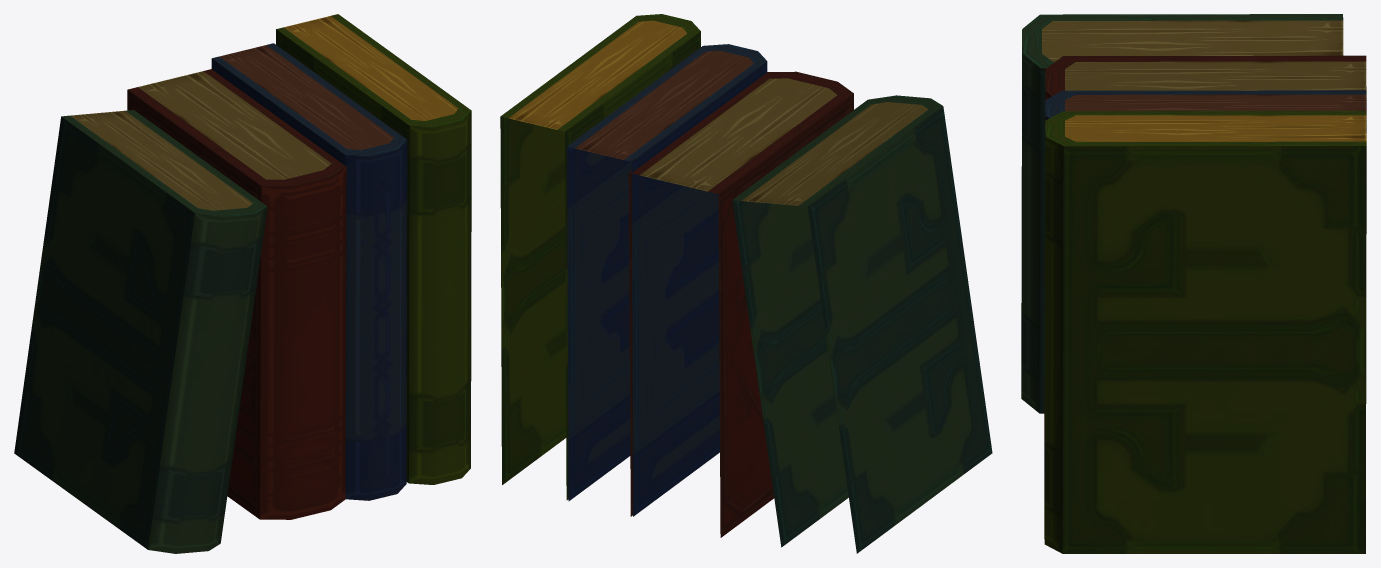
Rendered from BookGroup_Small_1.gltf.
3 renders of one model, left to right at view 1: azimuth 30°, elevation 25°; view 2: azimuth 150°, elevation 25°; view 3: azimuth 270°, elevation 25°, orthographic. The views are drawn at different scales.
Visible parts, largest first — view 1: BookGroup_Small_1; view 2: BookGroup_Small_1; view 3: BookGroup_Small_1.
Boxes of the visible parts, left/top/right/bottom form: BookGroup_Small_1: left=14, top=14, right=471, bottom=553; BookGroup_Small_1: left=500, top=14, right=992, bottom=553; BookGroup_Small_1: left=1021, top=14, right=1366, bottom=553.
Bounding box in the file's own units: 0.2893 × 0.2983 × 0.2256.
1 material, 1 textured.
